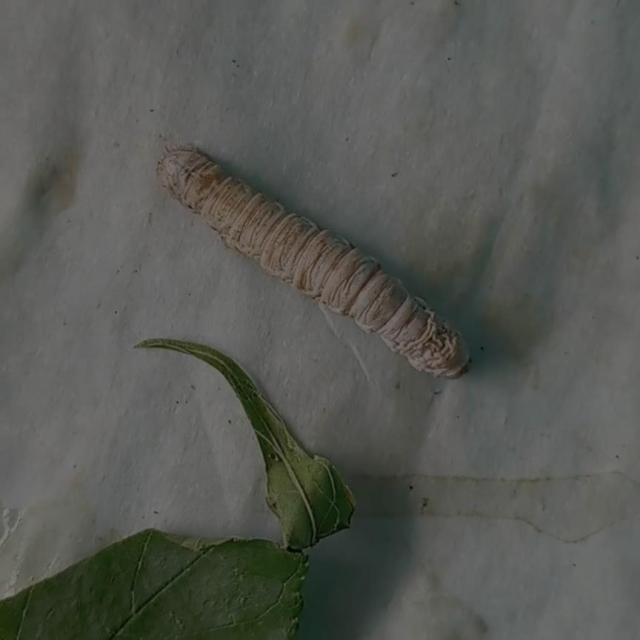Grasserie: (123, 119, 486, 395)
